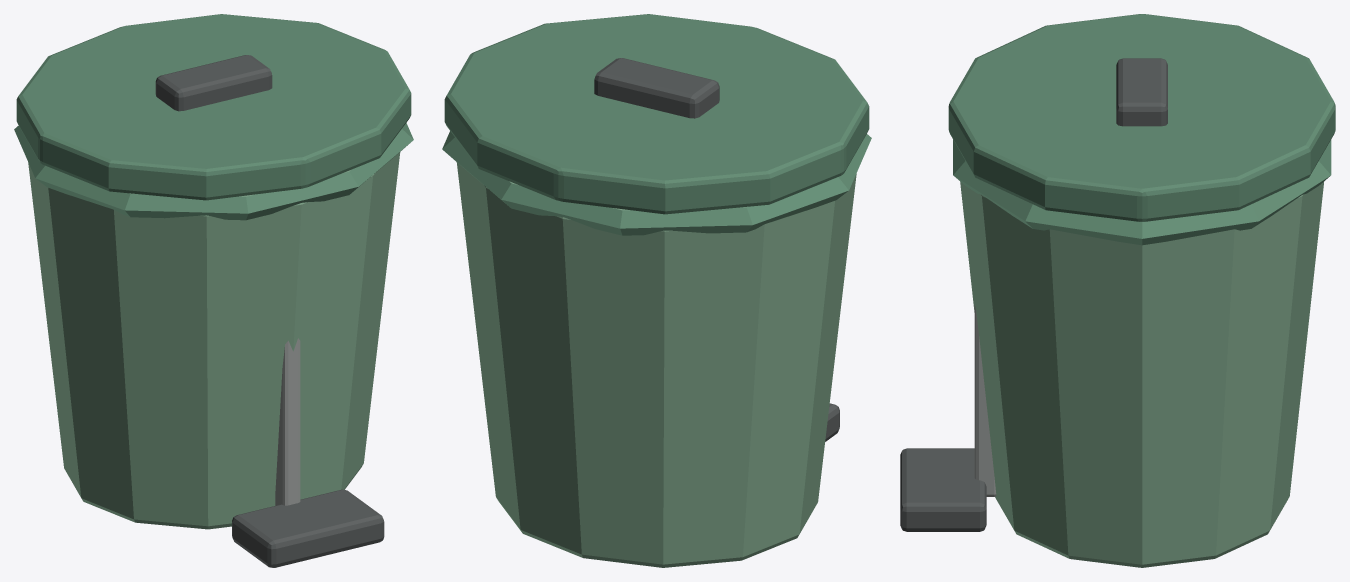
Rendered from bin.glb.
3 views of the same model, side by side, from view 1: azimuth 30°, elevation 25°; view 2: azimuth 150°, elevation 25°; view 3: azimuth 270°, elevation 25° (orthographic). The views are drawn at different scales.
Visible parts, largest first — view 1: binBody, binLid, binRim, binPedal, binLidGrip, pedalLink; view 2: binBody, binLid, binRim, binLidGrip; view 3: binBody, binLid, binRim, binPedal, binLidGrip, pedalLink.
Boxes of the visible parts, x1,y1,x2,y2 form: binBody: (28,152,400,529); binLid: (16,14,411,200); binRim: (14,123,413,220); binPedal: (232,489,384,567); binLidGrip: (155,55,272,111); pedalLink: (275,338,300,505); binBody: (456,162,856,567); binLid: (444,14,869,214); binRim: (442,131,871,235); binLidGrip: (594,58,719,118); binBody: (960,181,1324,567); binLid: (948,14,1335,221); binRim: (953,139,1331,245); binPedal: (900,448,986,531); binLidGrip: (1116,58,1167,126); pedalLink: (974,305,996,496).
Bounding box in the file's own units: 0.95 × 1.02 × 0.95.
